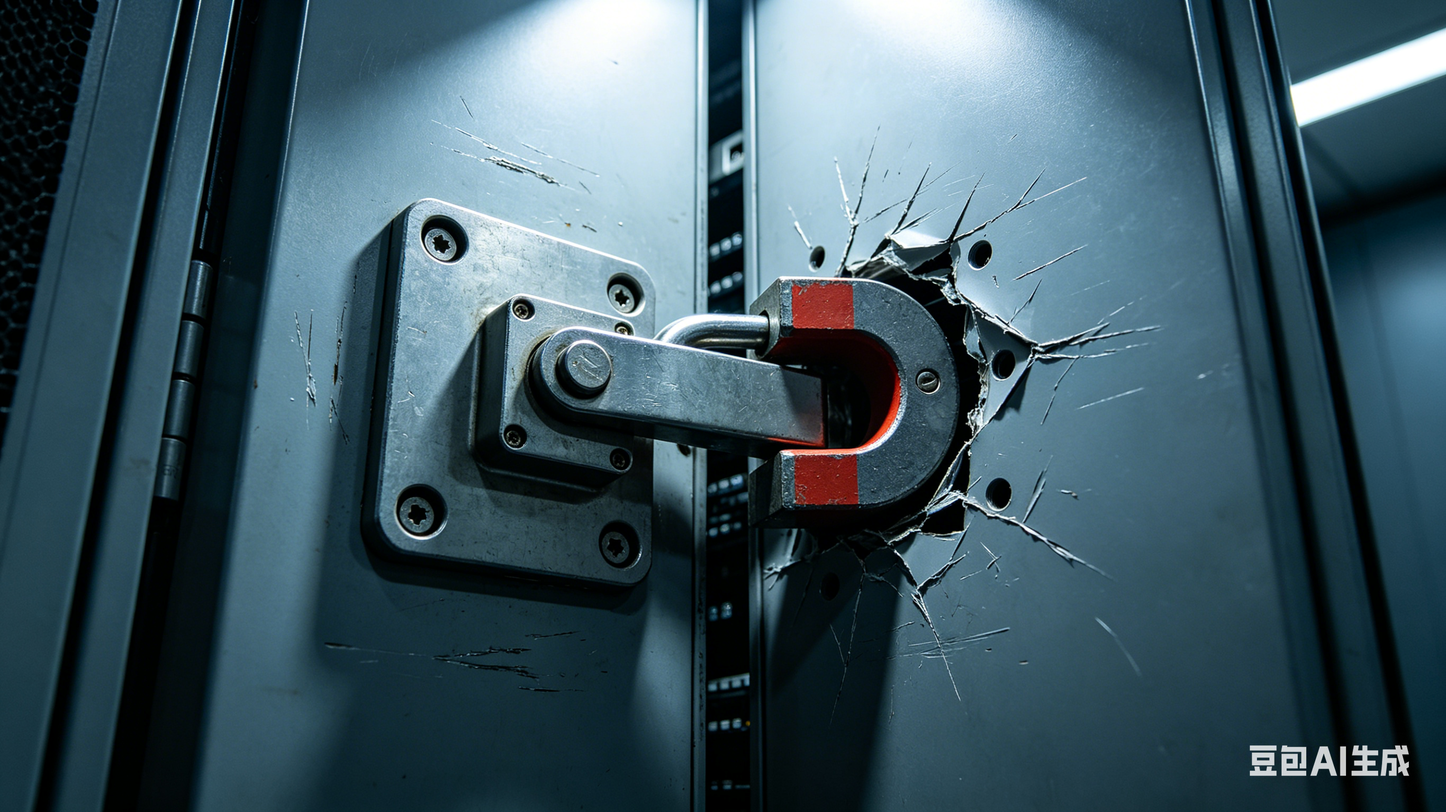BadLock: (586, 246, 1014, 528)
